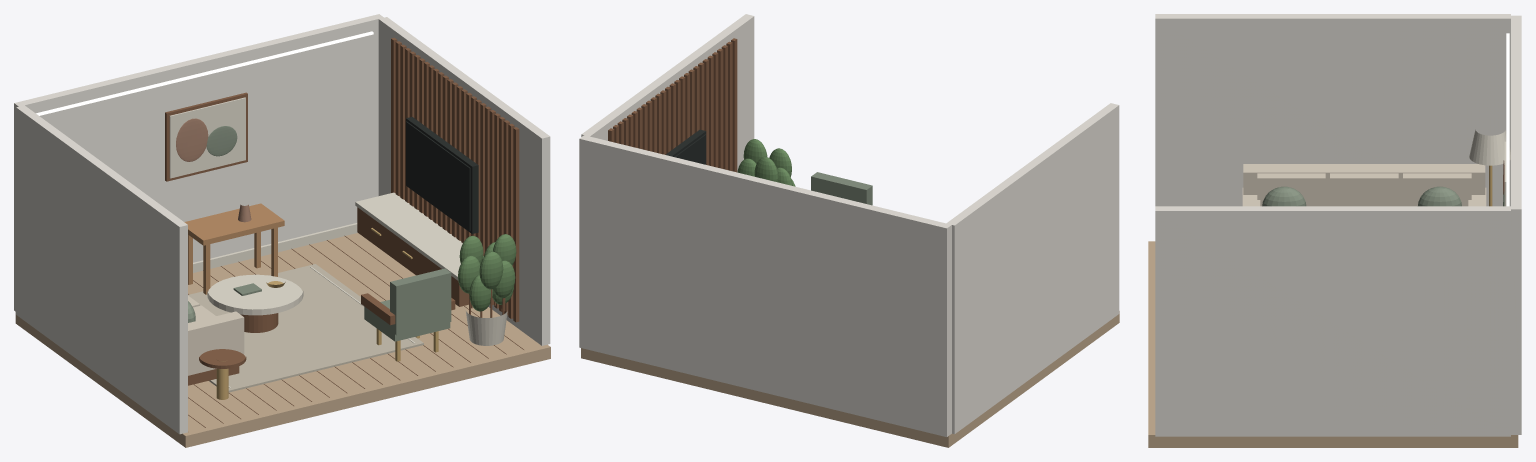
Rendered from warm-modern-room.glb.
3 renders of one model, left to right at view 1: azimuth 30°, elevation 25°; view 2: azimuth 150°, elevation 25°; view 3: azimuth 270°, elevation 25°, orthographic. The views are drawn at different scales.
Parts seen in each view (by area): view 1: Back wall, Left wall, Floor slab, Right wall, Large wool rug, Walnut feature slat (×12), TV screen, Console stone top, Lounge chair back, Art canvas, Round stone coffee table, Reference wooden table top (+13 smaller); view 2: Back wall, Left wall, Floor slab, Right wall, Walnut feature slat (×6), Lounge chair back, TV screen; view 3: Right wall, Left wall, Floor slab, Back cushion (×3), Back wall, Sofa back, Olive throw pillow (×2), Linen lamp shade, Back cove glow.
Boxes of the visible parts, <box> form: Back wall: <box>14,14,383,311</box>; Left wall: <box>16,105,187,434</box>; Floor slab: <box>15,233,550,447</box>; Right wall: <box>378,17,550,345</box>; Large wool rug: <box>188,264,423,392</box>; Walnut feature slat (×12): <box>391,37,519,322</box>; TV screen: <box>406,121,470,231</box>; Console stone top: <box>355,192,462,280</box>; Lounge chair back: <box>390,268,451,335</box>; Art canvas: <box>169,97,245,178</box>; Round stone coffee table: <box>207,274,303,315</box>; Reference wooden table top: <box>184,203,284,245</box>; Back wall: <box>579,135,951,436</box>; Left wall: <box>946,103,1119,434</box>; Floor slab: <box>581,311,1119,447</box>; Right wall: <box>581,14,754,171</box>; Walnut feature slat (×6): <box>707,38,737,172</box>; Lounge chair back: <box>811,172,872,205</box>; TV screen: <box>674,134,706,164</box>; Right wall: <box>1155,206,1510,436</box>; Left wall: <box>1155,14,1510,206</box>; Floor slab: <box>1148,241,1518,447</box>; Back cushion (×3): <box>1257,173,1471,206</box>; Back wall: <box>1511,15,1521,434</box>; Sofa back: <box>1243,164,1485,206</box>; Olive throw pillow (×2): <box>1262,186,1461,206</box>; Linen lamp shade: <box>1469,129,1510,165</box>; Back cove glow: <box>1506,33,1509,206</box>.
Size of the model in its own units: 5.24 by 2.96 by 4.2.
